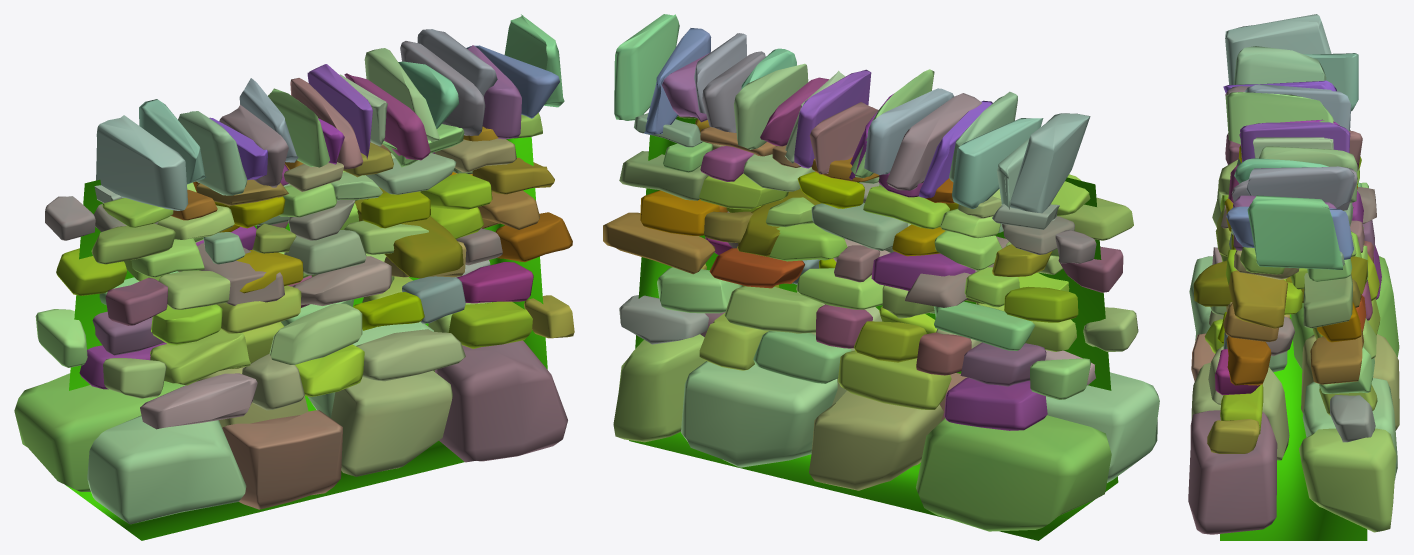
File: SM_Wall_F.glb
3 views of the same model, side by side, from view 1: azimuth 30°, elevation 25°; view 2: azimuth 150°, elevation 25°; view 3: azimuth 270°, elevation 25° (orthographic). The views are drawn at different scales.
Visible parts, largest first — view 1: SM_Wall_F; view 2: SM_Wall_F; view 3: SM_Wall_F.
Part boxes in pixels (left/top/right/bottom): SM_Wall_F: left=14, top=14, right=574, bottom=540; SM_Wall_F: left=603, top=14, right=1159, bottom=540; SM_Wall_F: left=1188, top=14, right=1399, bottom=540.
Size of the model in its own units: 2.32 by 1.75 by 0.9474.
